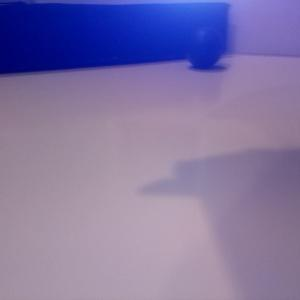dead_ball: (183, 26, 225, 66)
